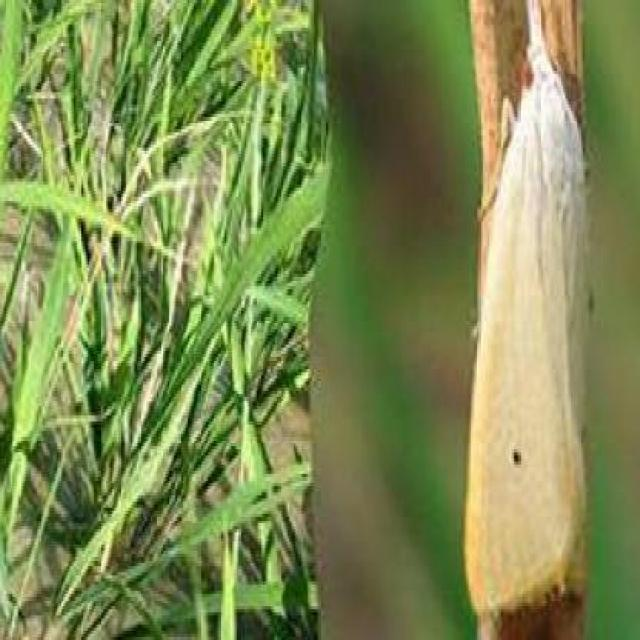stem-borer: (463, 0, 600, 617)
